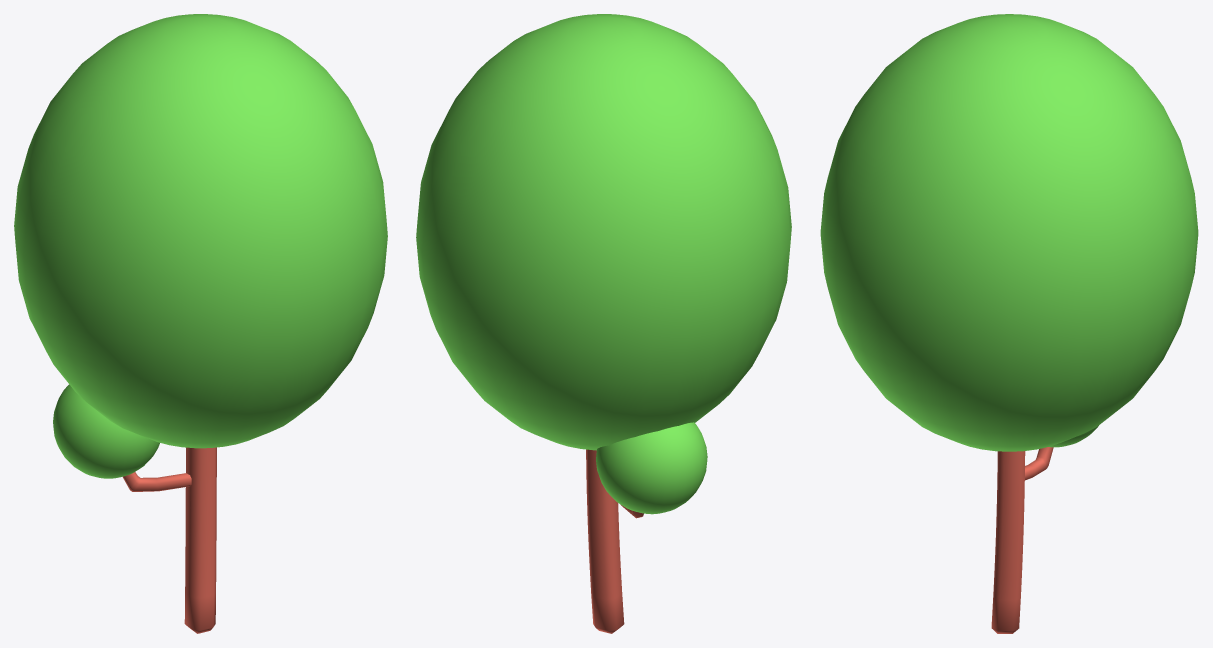
File: Tree2.fbx
3 renders of one model, left to right at view 1: azimuth 30°, elevation 25°; view 2: azimuth 150°, elevation 25°; view 3: azimuth 270°, elevation 25°, orthographic.
Parts seen in each view (by area): view 1: Tree2; view 2: Tree2; view 3: Tree2.
Boxes of the visible parts, left/top/right/bottom form: Tree2: left=14, top=14, right=387, bottom=633; Tree2: left=416, top=14, right=791, bottom=633; Tree2: left=820, top=14, right=1198, bottom=633.
Size of the model in its own units: 836 by 1473 by 835.
